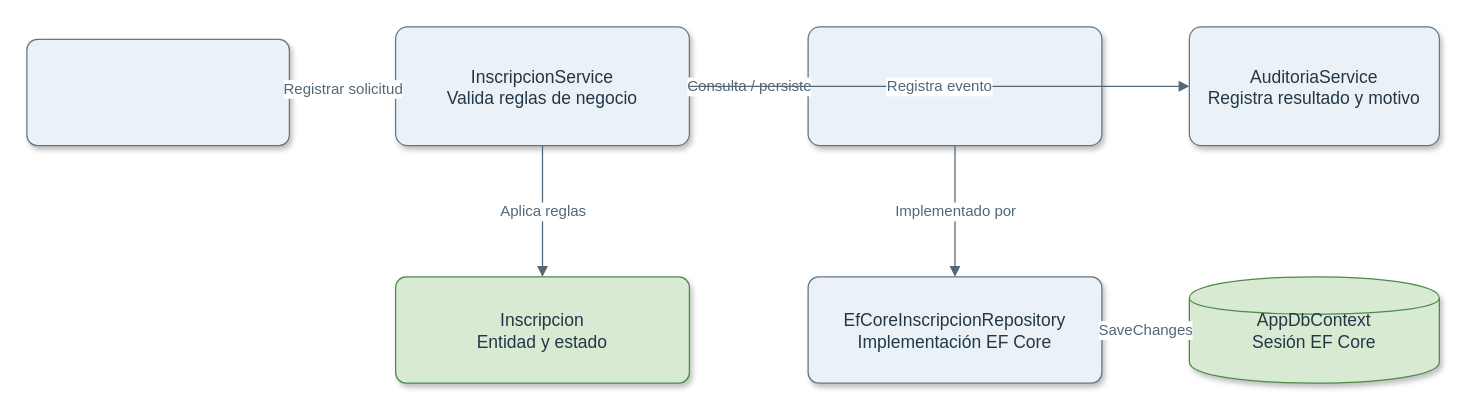
Some shapes in this 1469 by 414 pixel diagram are drawn without their labels. Here are the shapes that lost their labels. From the top down, the centre of each, then its label:
At pixel 159 93: "InscripcionController Recibe solicitud web".
At pixel 955 87: "IInscripcionRepository Contrato de persistencia".
